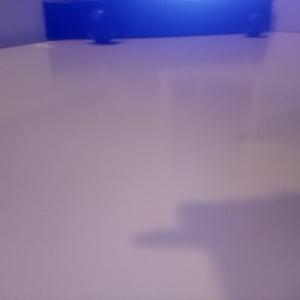dead_ball: (86, 8, 117, 43), (243, 12, 269, 37)
